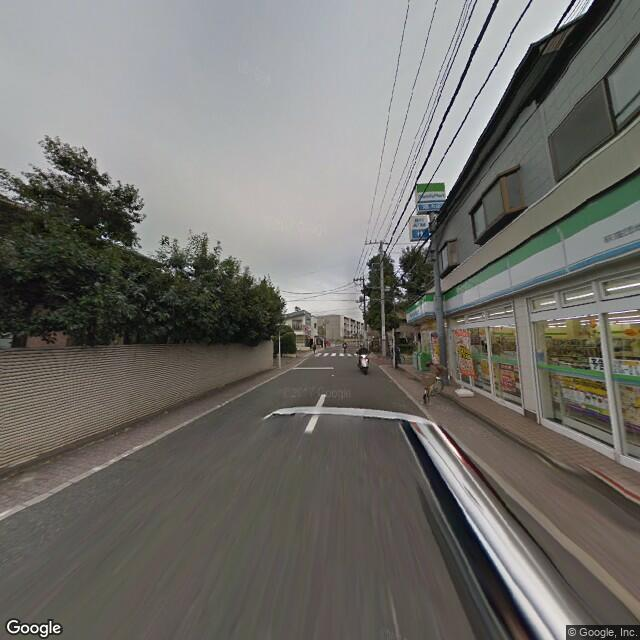family_mart: (401, 175, 639, 329), (414, 176, 446, 210)
